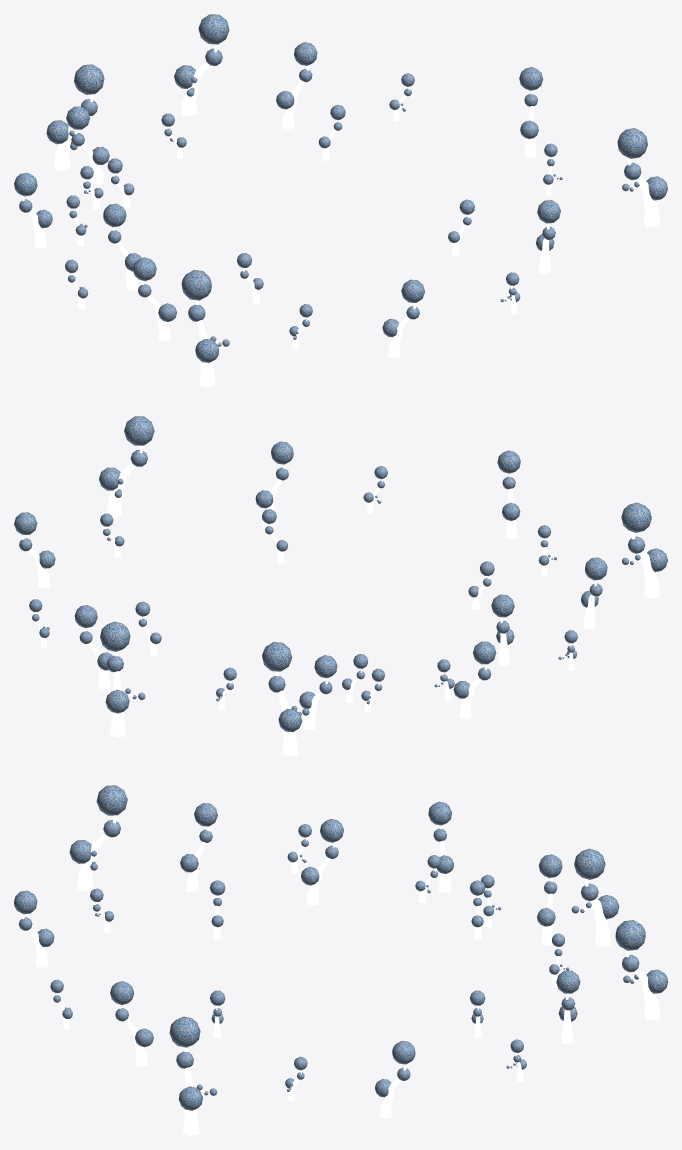
Rendered from trees.glb.
3 views of the same model, one above another, from view 1: azimuth 30°, elevation 25°; view 2: azimuth 150°, elevation 25°; view 3: azimuth 270°, elevation 25° (orthographic). The views are drawn at different scales.
Parts seen in each view (by area): view 1: trees; view 2: trees; view 3: trees.
Boxes of the visible parts, box(x1,y1,x2,y2) form: trees: box(14, 14, 667, 387); trees: box(14, 416, 667, 756); trees: box(14, 785, 667, 1135).
Size of the model in its own units: 102 by 18.36 by 106.
Materials: 2 (1 with a texture image).
